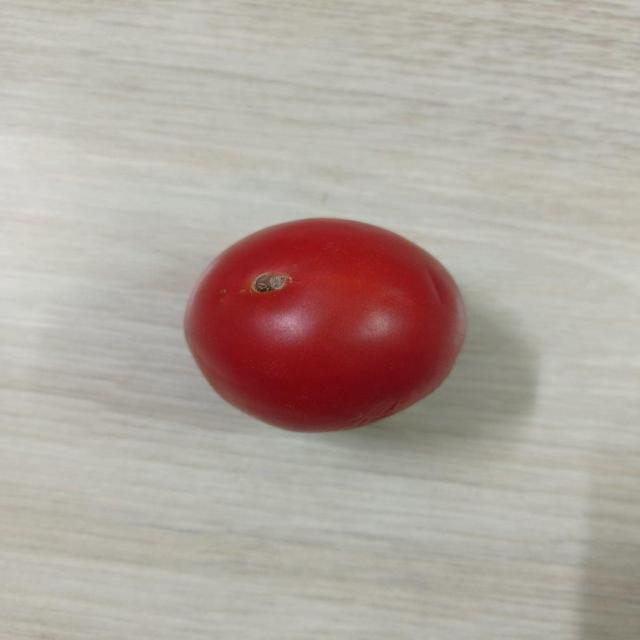Tomato: (181, 215, 474, 438)
